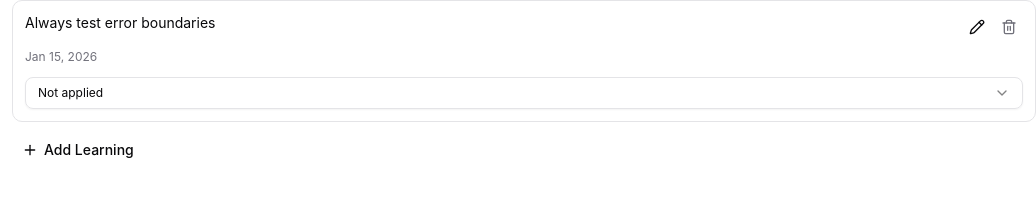
Test: LearningList › Applied in dropdown › shows other content items in dropdown
Radix Select requires pointerDown to open
Press the mouse on the dropdown: (71, 92) [25,77,1023,109]
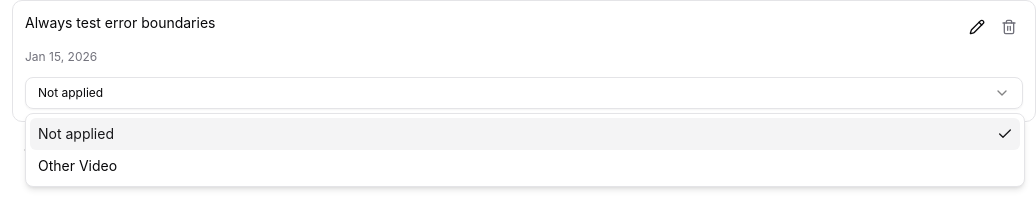
Expected: the text "Not applied" below "Jan 15, 2026" is shown, [38,85,103,100]
Expected: the text "Other Video" is shown, [38,156,117,176]
